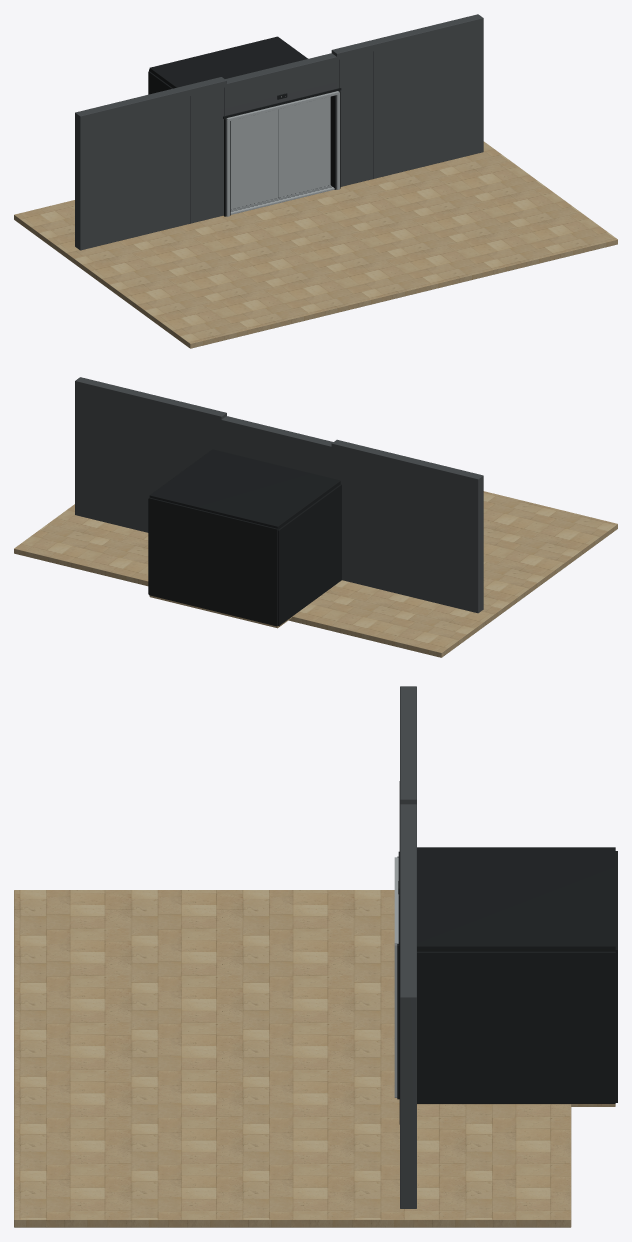
File: elevator-v4.glb
The picture shows the model from 3 angles, top to bottom: view 1: azimuth 30°, elevation 25°; view 2: azimuth 150°, elevation 25°; view 3: azimuth 270°, elevation 25°; orthographic projection. The views are drawn at different scales.
Parts seen in each view (by area): view 1: LobbyFloor, Lobby_Left, Lobby_Right, Door_Right, Door_Left, Lobby_Top, Ceiling, Portal_Reveal.001, Sill, Portal_Header; view 2: LobbyFloor, Lobby_Left, Lobby_Right, Rear_Wall, Ceiling, Side_Base, Lobby_Top; view 3: LobbyFloor, Side_Base.001, Ceiling, Lobby_Right, Lobby_Left, Lobby_Top, Rear_Wall.
Boxes of the visible parts, x1,y1,x2,y2 form: LobbyFloor: (14,141,617,348); Lobby_Left: (75,77,226,250); Lobby_Right: (331,14,483,186); Door_Right: (278,96,330,197); Door_Left: (230,109,278,209); Lobby_Top: (221,53,342,119); Ceiling: (149,36,307,88); Portal_Reveal.001: (330,90,340,189); Sill: (230,185,334,214); Portal_Header: (226,91,339,120); LobbyFloor: (14,491,617,657); Lobby_Left: (331,439,483,613); Lobby_Right: (75,377,226,532); Rear_Wall: (149,497,277,626); Ceiling: (149,449,340,529); Side_Base: (278,484,341,625); Lobby_Top: (215,416,333,478); LobbyFloor: (14,890,571,1227); Side_Base.001: (417,951,615,1103); Ceiling: (417,847,615,951); Lobby_Right: (400,884,416,1208); Lobby_Left: (400,686,416,804); Lobby_Top: (400,804,416,884); Rear_Wall: (612,851,617,1102).
Size of the model in its own units: 14 by 4.38 by 10.84.
10 materials, 2 textured.
